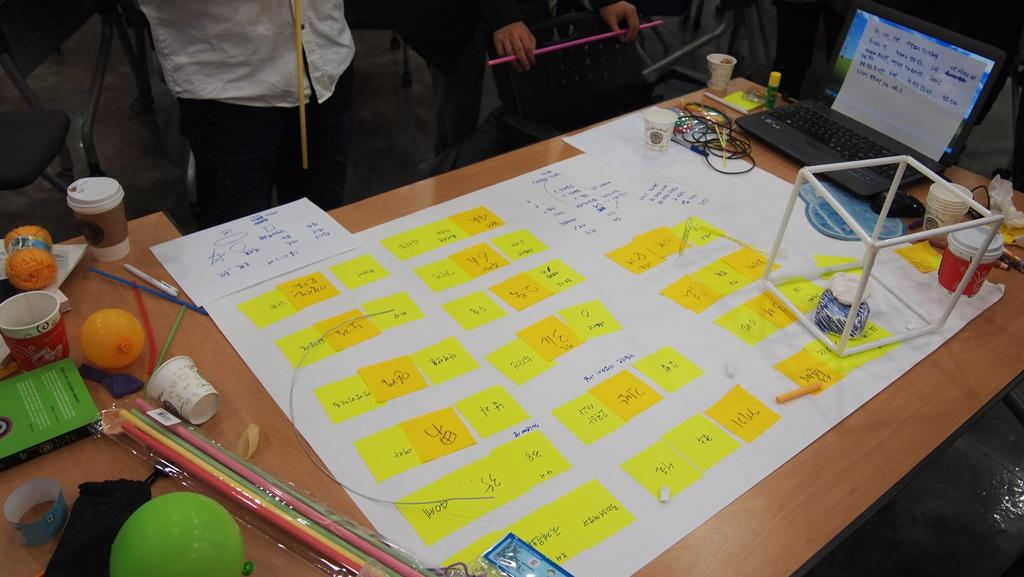Laptop: (783, 17, 996, 163)
